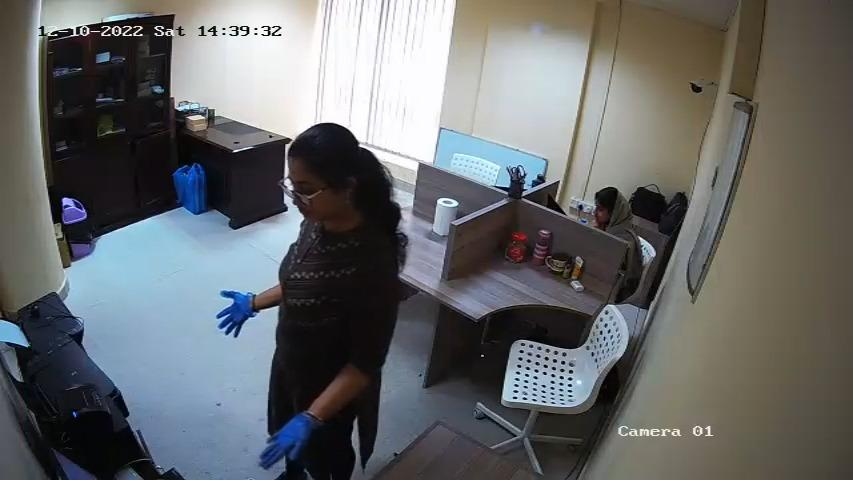gloves: (256, 414, 317, 472), (204, 286, 255, 342)
